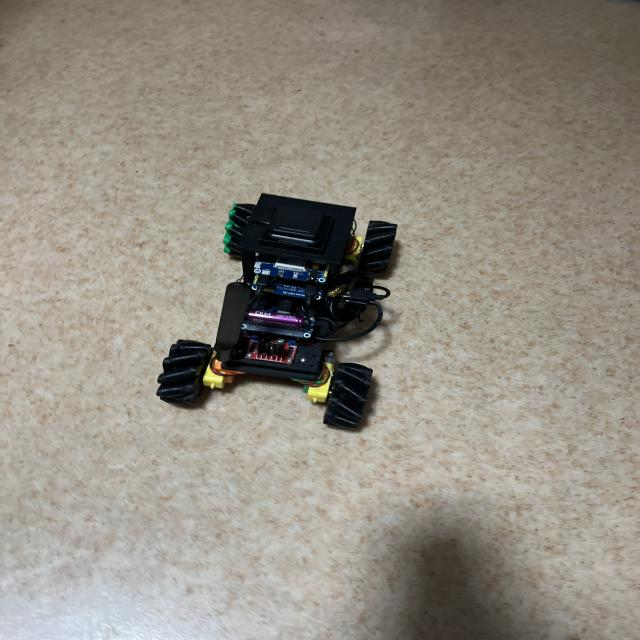robot: (157, 194, 397, 428)
